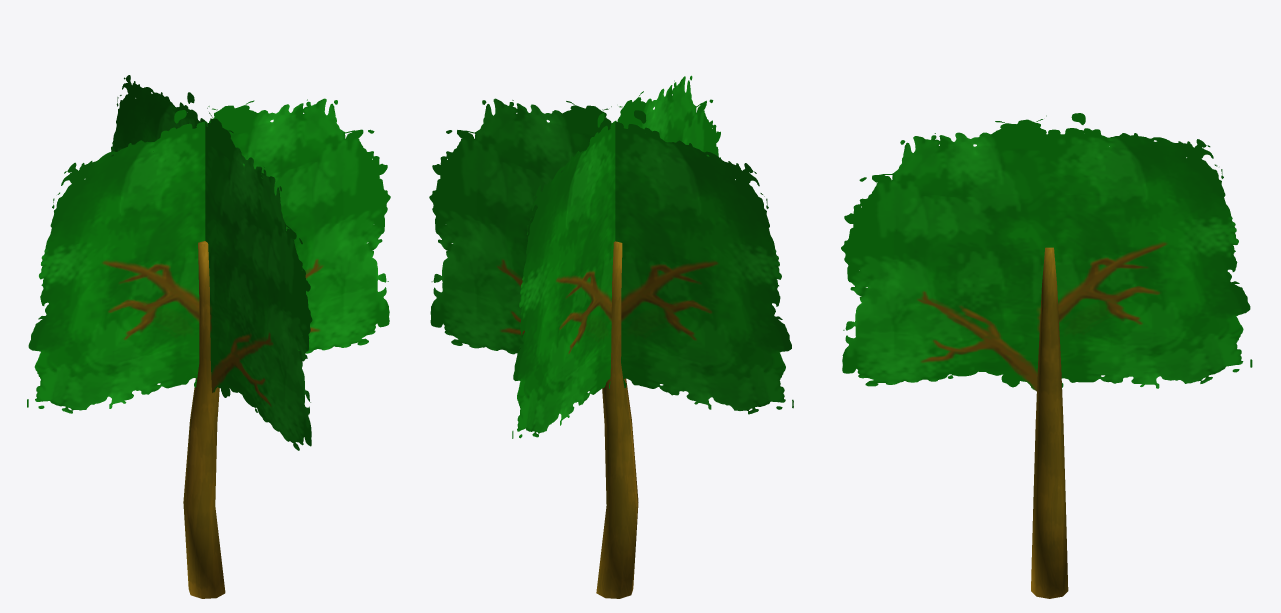
File: pohonx1.dae
The picture shows the model from 3 angles, left to right: view 1: azimuth 30°, elevation 25°; view 2: azimuth 150°, elevation 25°; view 3: azimuth 270°, elevation 25°; orthographic projection. The views are drawn at different scales.
Visible parts, largest first — view 1: Plane001, Plane002, Cylinder001; view 2: Plane001, Plane002, Cylinder001; view 3: Plane002, Cylinder001.
Boxes of the visible parts, x1,y1,x2,y2 form: Plane001: [27, 98, 390, 413]; Plane002: [111, 75, 312, 450]; Cylinder001: [183, 241, 225, 598]; Plane001: [429, 98, 793, 414]; Plane002: [512, 75, 720, 438]; Cylinder001: [596, 241, 638, 598]; Plane002: [841, 113, 1252, 391]; Cylinder001: [1031, 247, 1068, 598].
Bounding box in the file's own units: 157 × 157 × 196.
